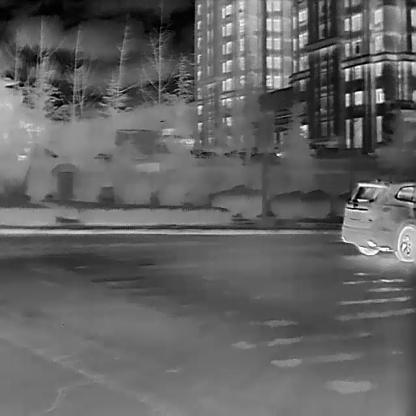car: (340, 176, 416, 262)
